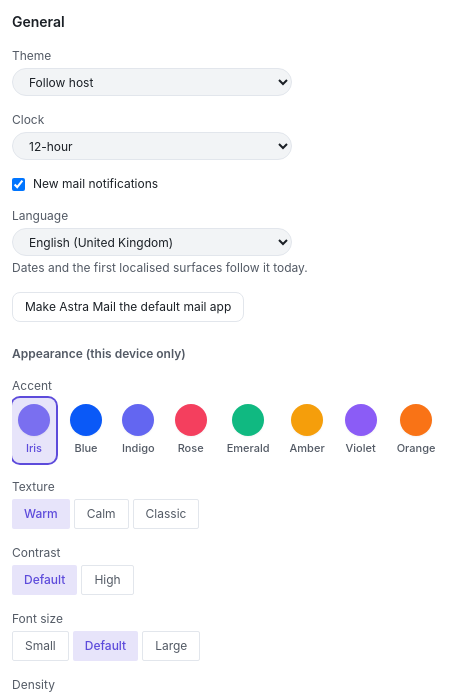
it: the default-mail setting › surfaces a refusal and hides the row when no account stands
What coordinates should you click on to do the following:
click the button "Make Astra Mail the default mail app"
I would click on:
 (128, 307)
Its box is x1=12 y1=292 x2=244 y2=322.
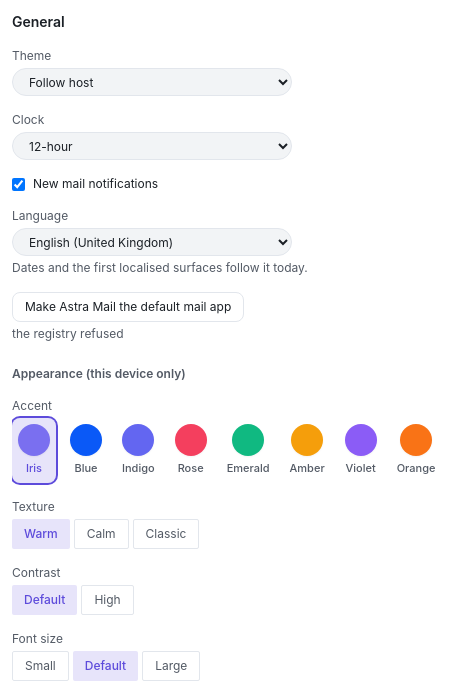
expect the text "the registry refused" is shown: met, box x1=12 y1=326 x2=124 y2=341
